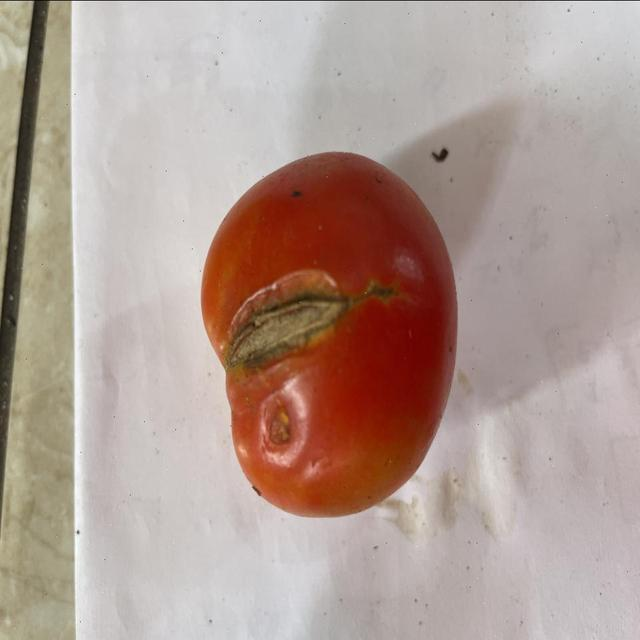Cracking Fruit: (148, 172, 247, 251)
